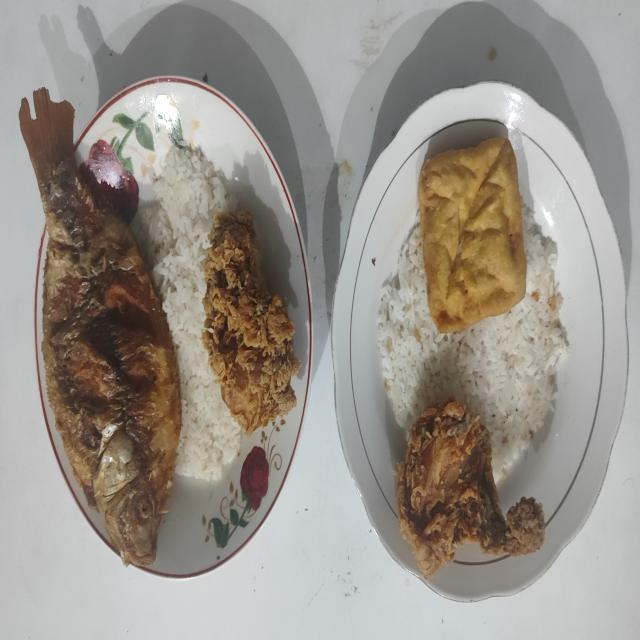ikan_mujair: (20, 89, 182, 566)
nasi_putih: (377, 206, 569, 482), (140, 150, 243, 480)
tahu_goreng: (418, 139, 526, 333)
